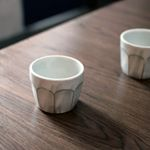cups: (28, 53, 87, 117), (117, 25, 150, 82)
